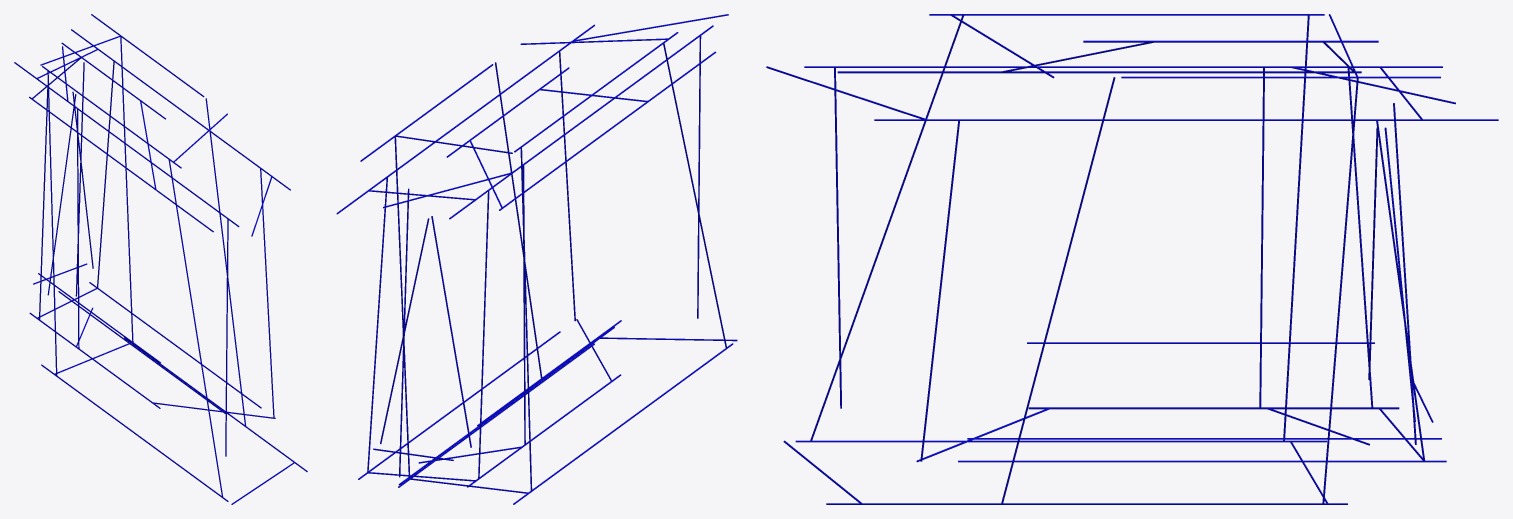
Rendered from corrected_3d_strokes.glb.
3 views of the same model, side by side, from view 1: azimuth 30°, elevation 25°; view 2: azimuth 150°, elevation 25°; view 3: azimuth 270°, elevation 25° (orthographic). The views are drawn at different scales.
Parts seen in each view (by area): view 1: world; view 2: world; view 3: world.
Boxes of the visible parts, x1,y1,x2,y2 form: world: [14, 14, 307, 504]; world: [336, 14, 737, 504]; world: [766, 14, 1498, 504].
Bounding box in the file's own units: 3.08 × 9.7 × 15.04.
